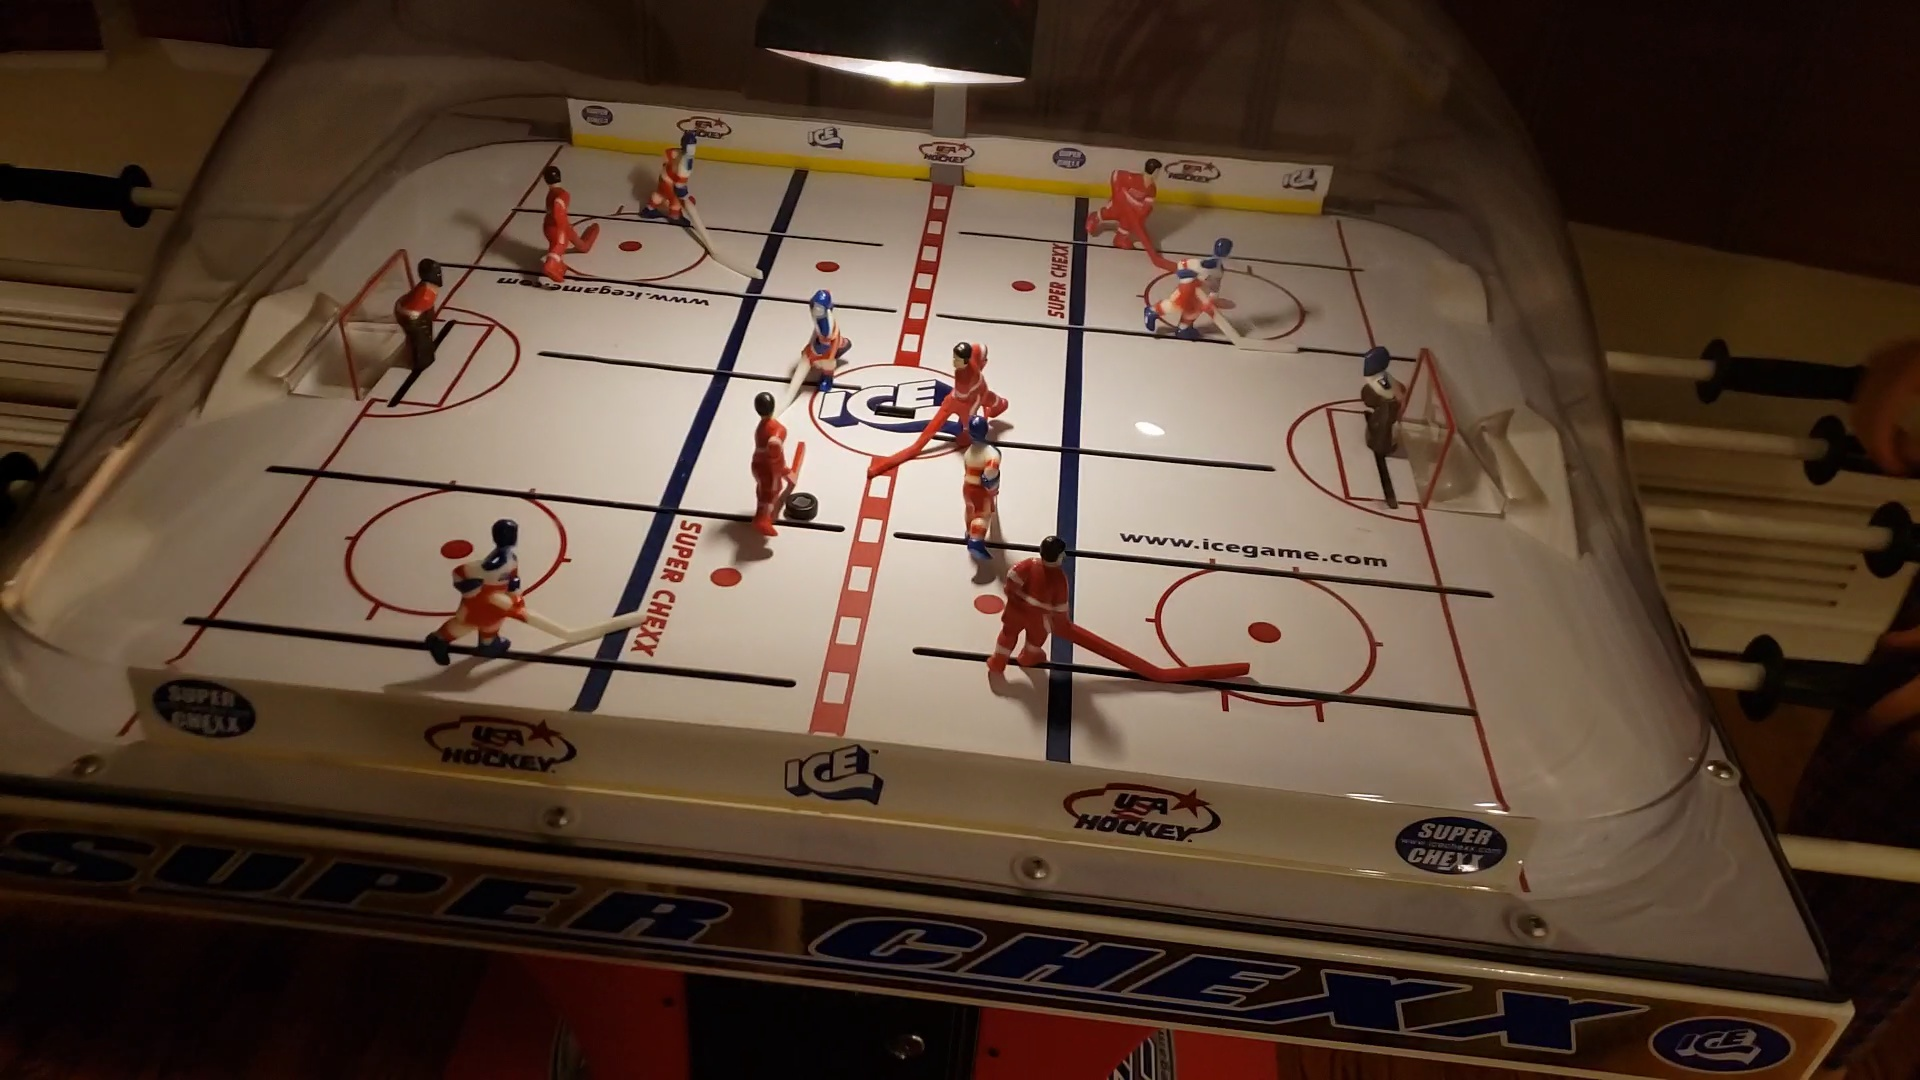puck: (783, 488, 823, 521)
